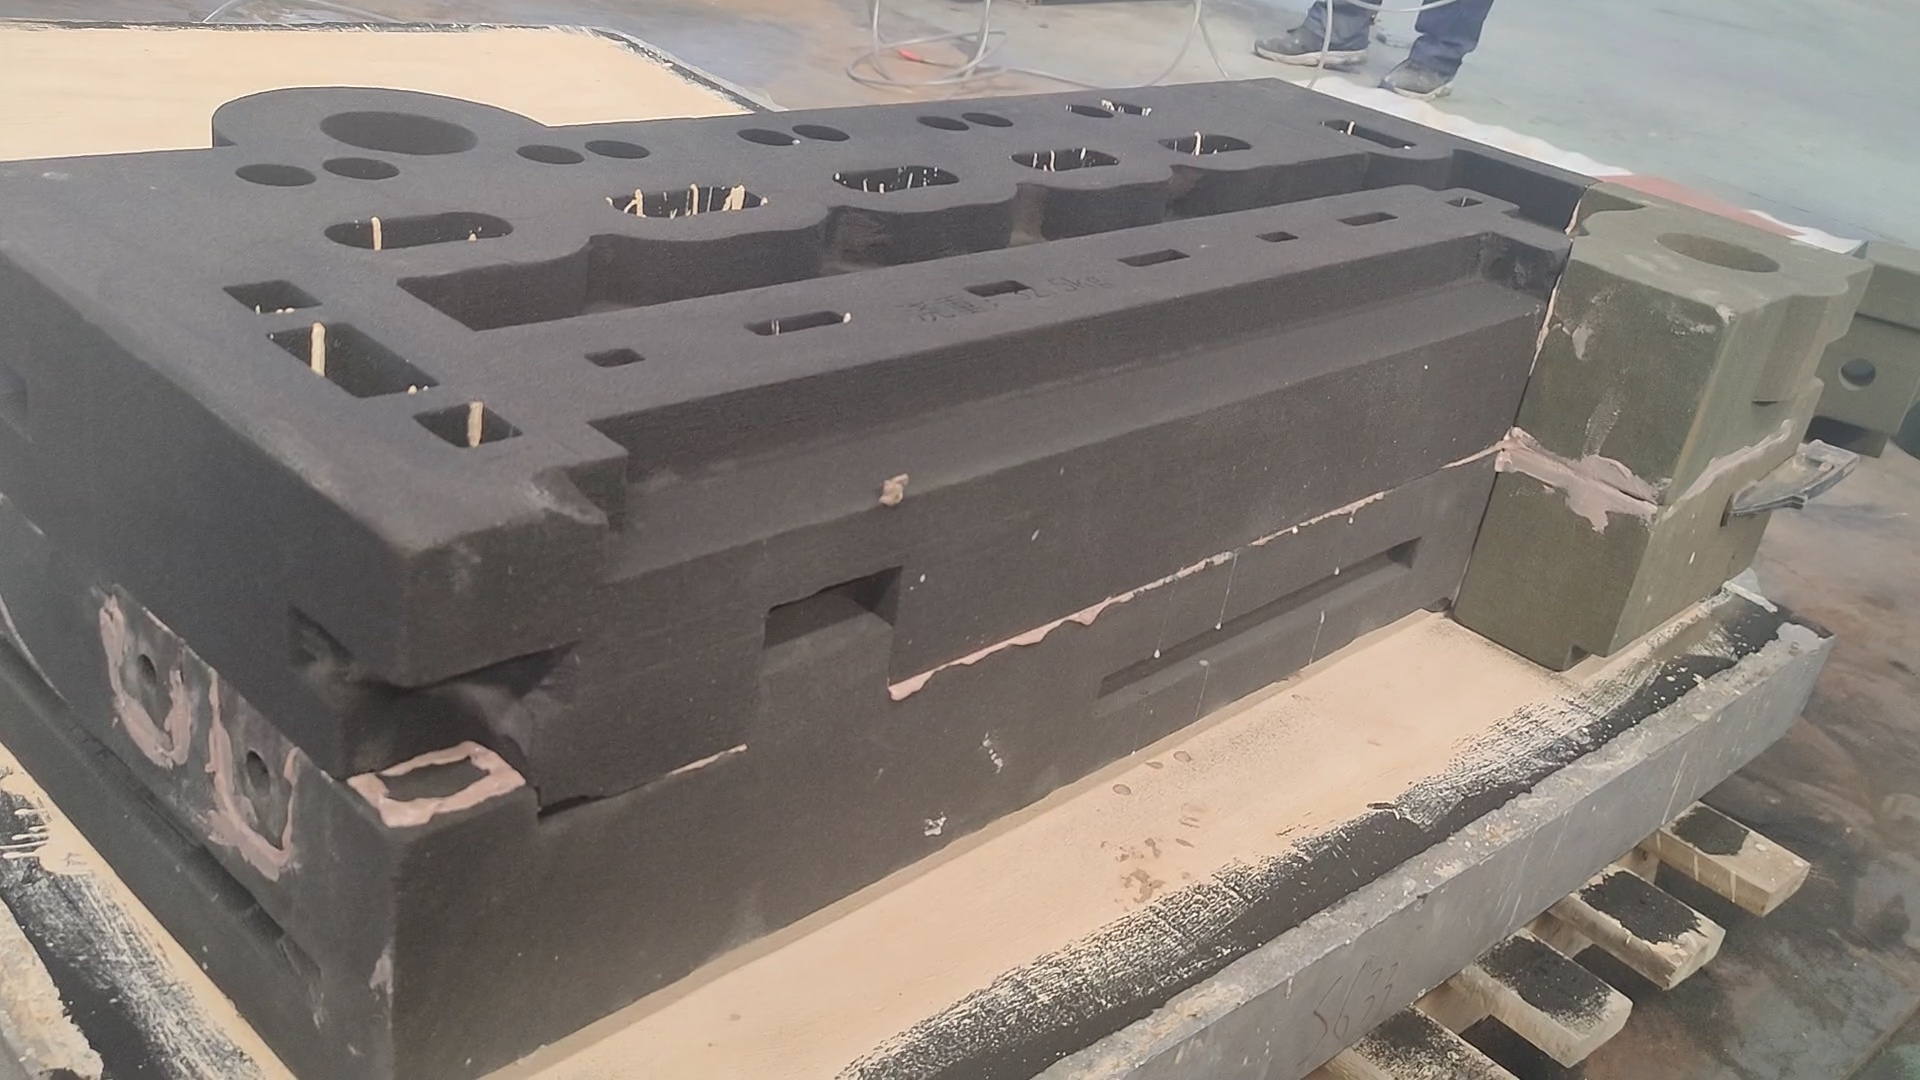pouring hole: (316, 109, 484, 158), (1654, 228, 1780, 273)
